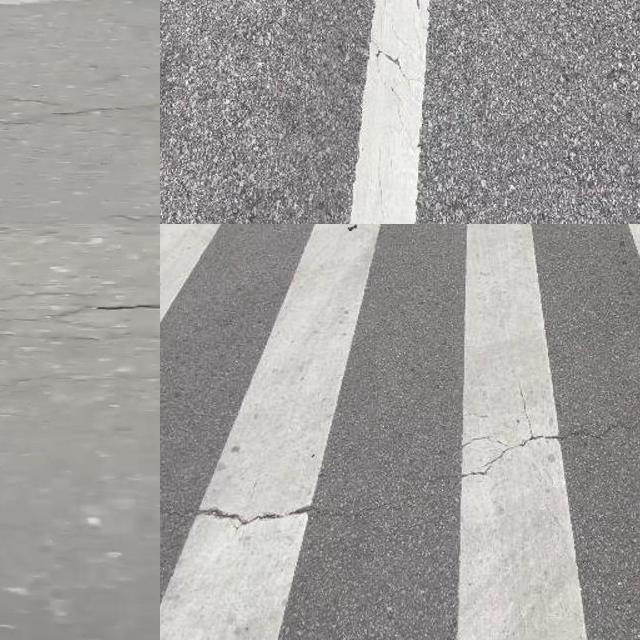Melintang: (180, 408, 640, 535), (0, 79, 160, 140), (74, 291, 160, 318)
